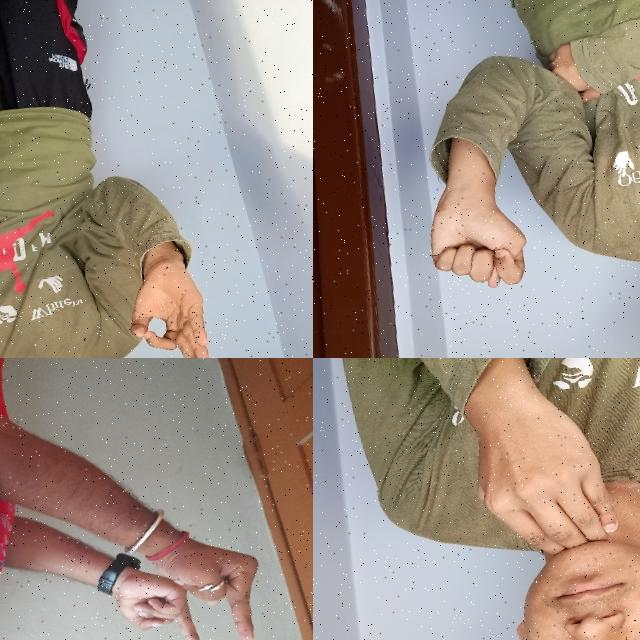Chin Flick: (441, 375, 640, 640)
Dulya: (412, 161, 538, 306)
Middle Finger: (141, 512, 281, 640), (98, 564, 202, 640)
Okay: (115, 240, 224, 358)
